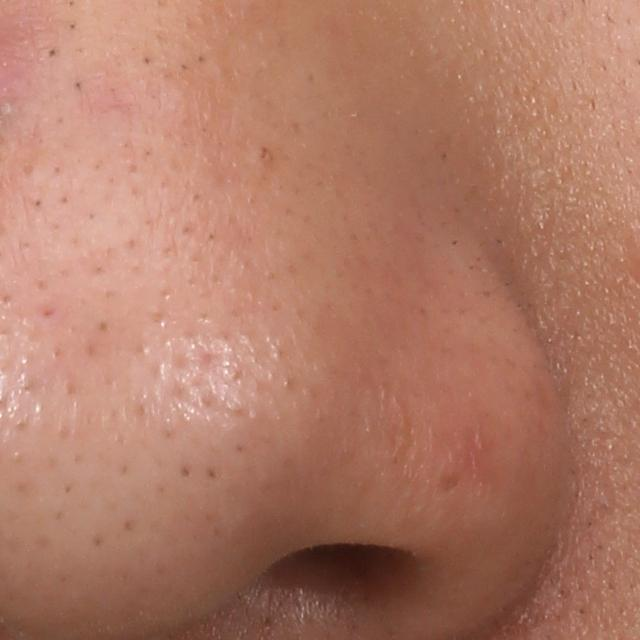comedo: (250, 141, 278, 169)
